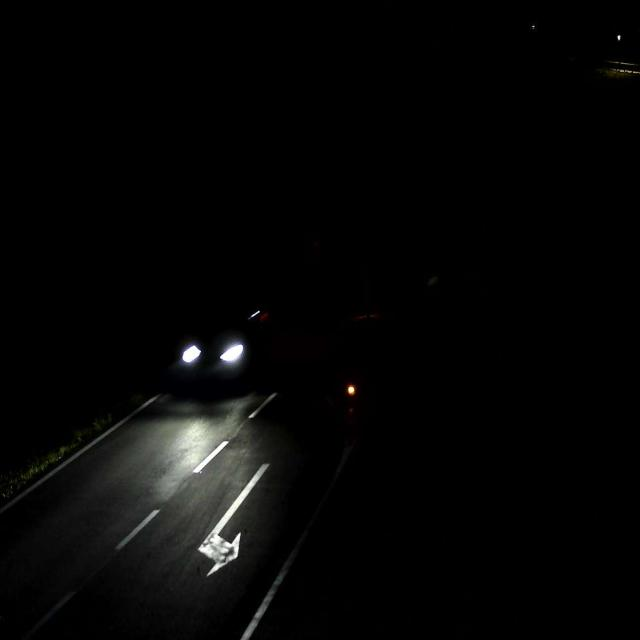car: (166, 304, 274, 398)
